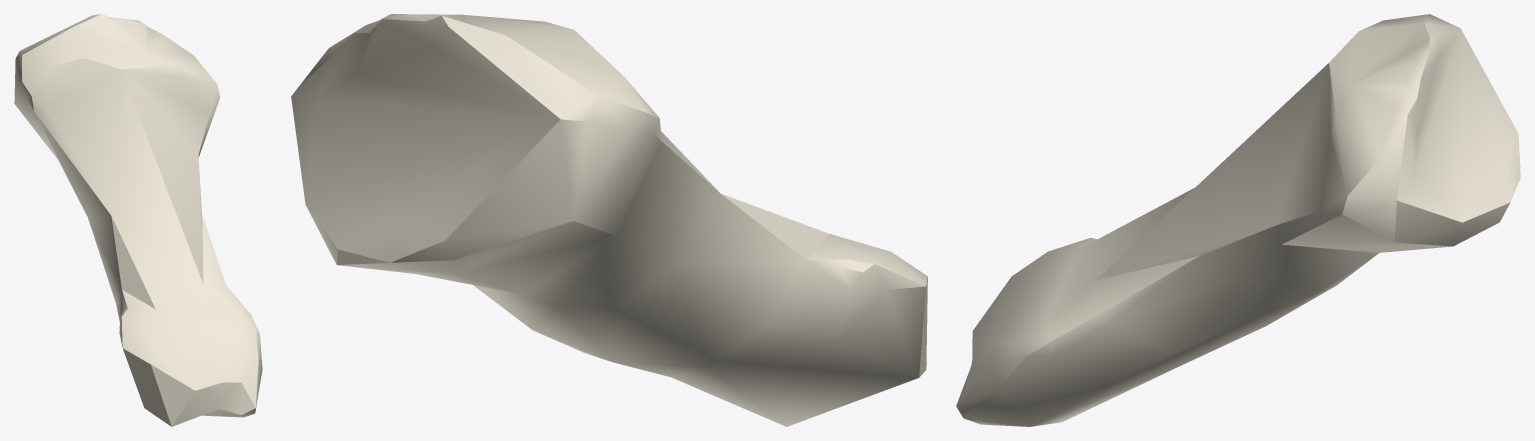
Rendered from fma24460_fj3193.glb.
3 views of the same model, side by side, from view 1: azimuth 30°, elevation 25°; view 2: azimuth 150°, elevation 25°; view 3: azimuth 270°, elevation 25° (orthographic). The views are drawn at different scales.
Parts seen in each view (by area): view 1: FMA24460_FJ3193; view 2: FMA24460_FJ3193; view 3: FMA24460_FJ3193.
Boxes of the visible parts, x1,y1,x2,y2 form: FMA24460_FJ3193: (14, 14, 262, 426); FMA24460_FJ3193: (291, 14, 927, 426); FMA24460_FJ3193: (956, 14, 1520, 426).
Size of the model in its own units: 0.00994 by 0.0138 by 0.0171.
